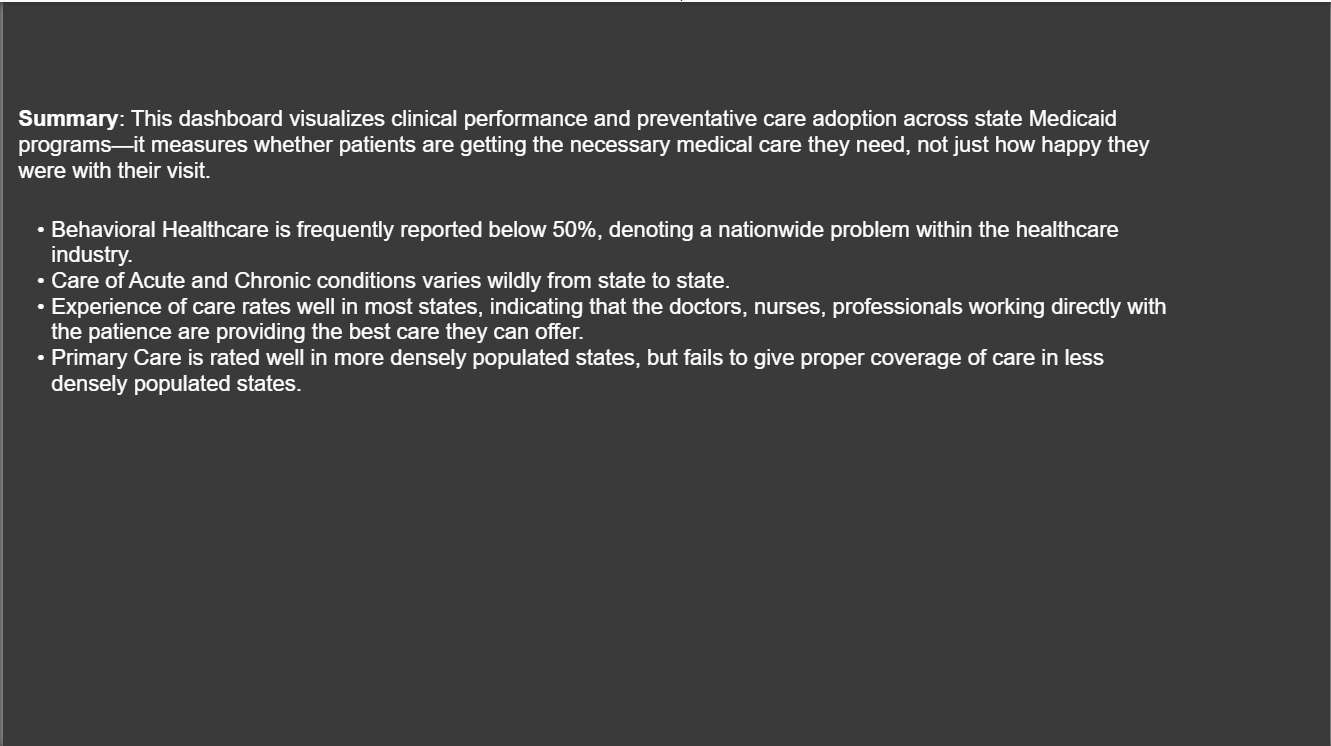

What the dashboard file says about the page in this screenshot:
{"tool":"powerbi","page":{"name":"Statistic Summary","canvas":[1280,720],"ordinal":1},"visuals":[{"type":"textbox","box":[9.7,0,1126.8,532],"z":0}]}

Visuals, with their boxes in screenshot pixels (x1, y1, x2, y2), scaled from the page's 1280x720 canvas onto the 1331x746 screenshot:
textbox: [left=10, top=0, right=1182, bottom=551]
